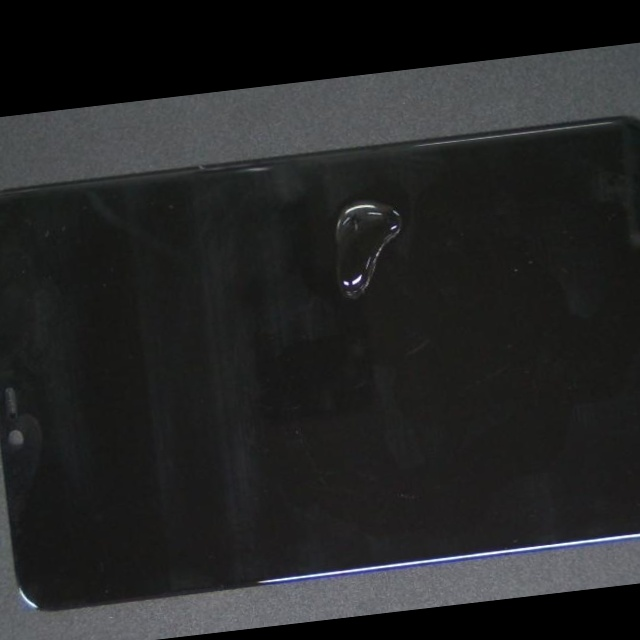oil: (199, 124, 614, 296)
